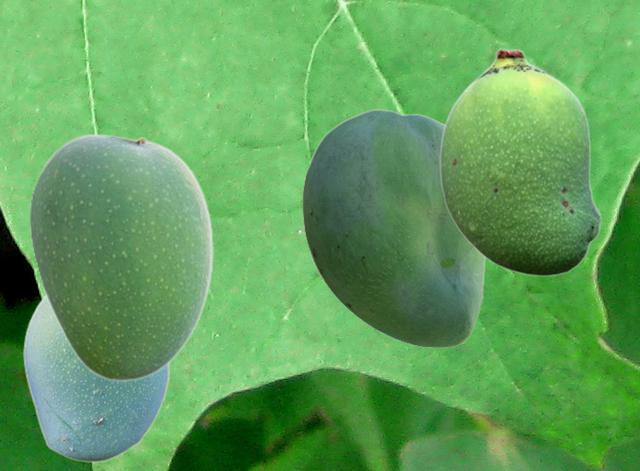green_mango: (29, 133, 213, 380), (302, 109, 487, 347), (439, 48, 601, 276), (22, 296, 169, 462)
